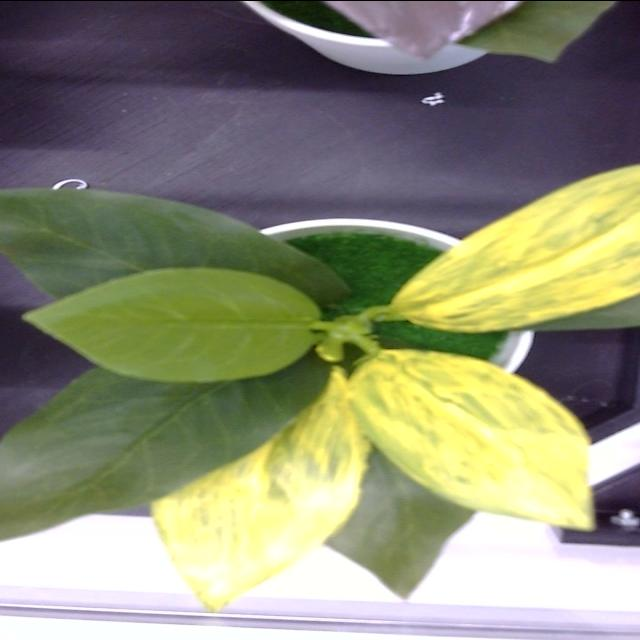Green: (0, 345, 330, 538), (0, 188, 348, 302), (0, 188, 346, 300), (26, 266, 332, 381)
Yellow: (154, 366, 372, 608), (348, 348, 592, 528), (388, 164, 639, 331)
